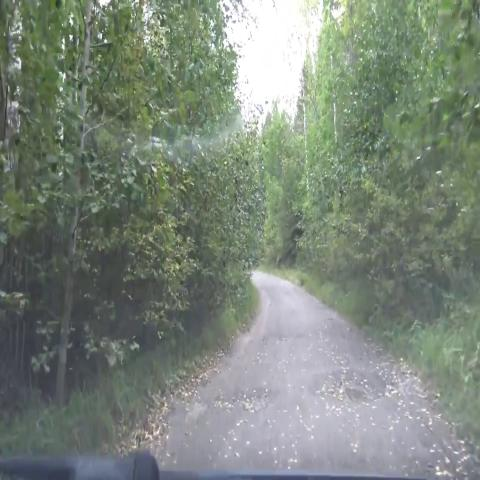pothole: (308, 357, 394, 418), (208, 378, 280, 421), (266, 321, 306, 352)
